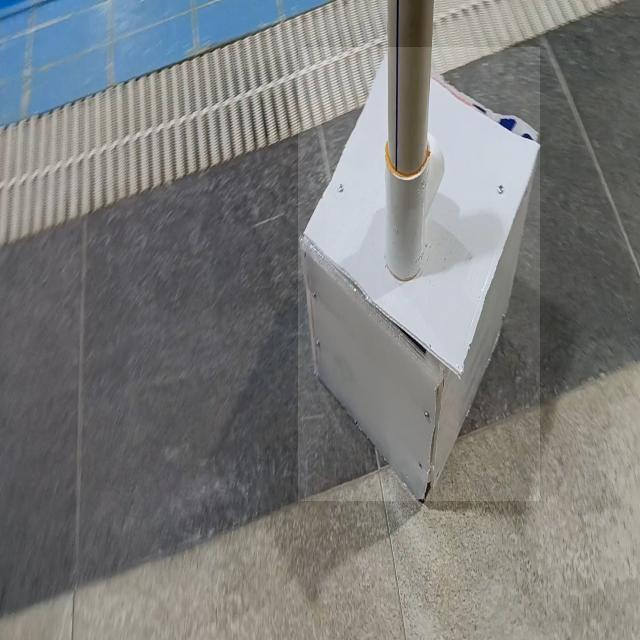Cube: (298, 47, 540, 501)
